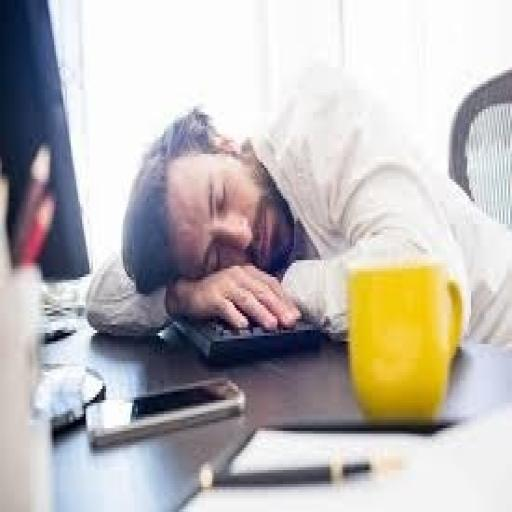sleeping: (119, 64, 510, 350)
